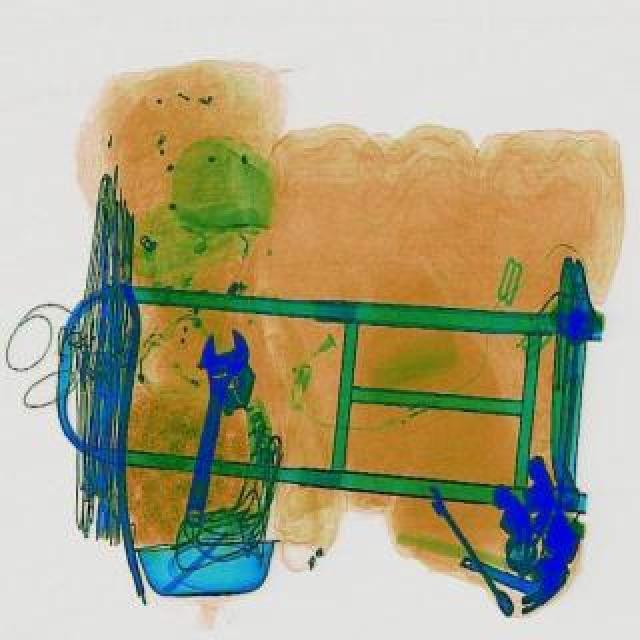scissors: (168, 324, 252, 530), (422, 484, 516, 614)
